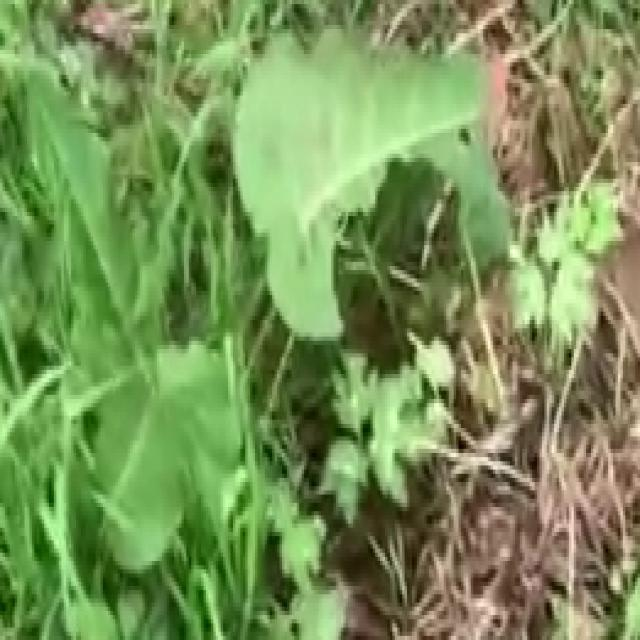organic waste: (8, 0, 512, 632)
